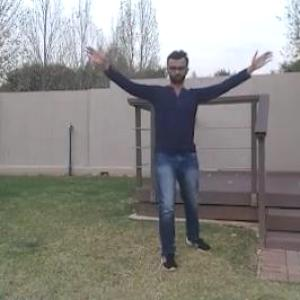takeoff: (95, 47, 265, 253)
